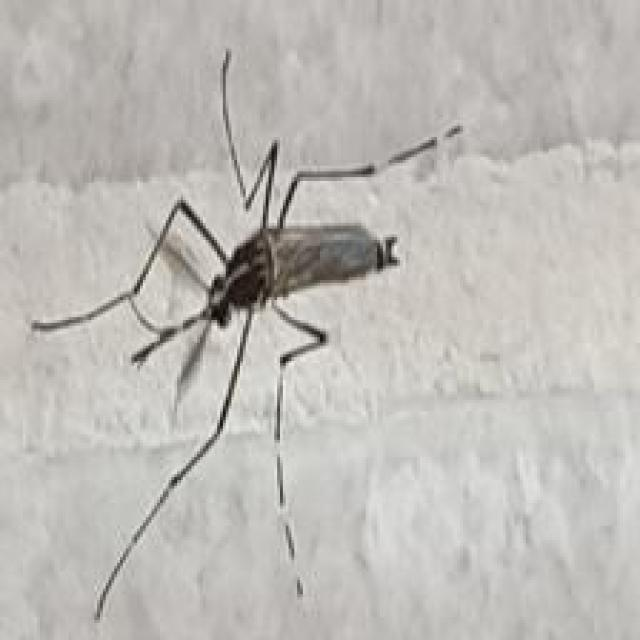Aedes albopictus: (28, 47, 466, 622)
